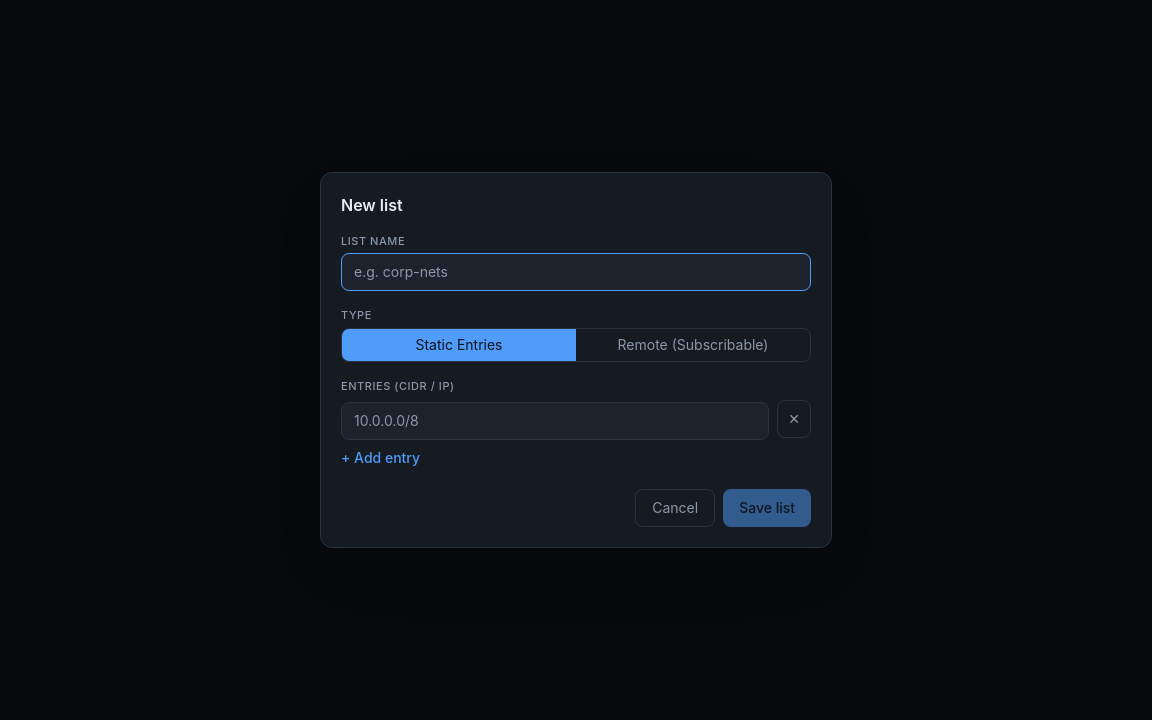
Scenario: ListEditor › validates static entries inline and blocks save until fixed
The image size is (1152, 720).
Type "corp" into the field with placeholder "e.g. corp-nets" at (576, 272), box x1=341 y1=253 x2=811 y2=291
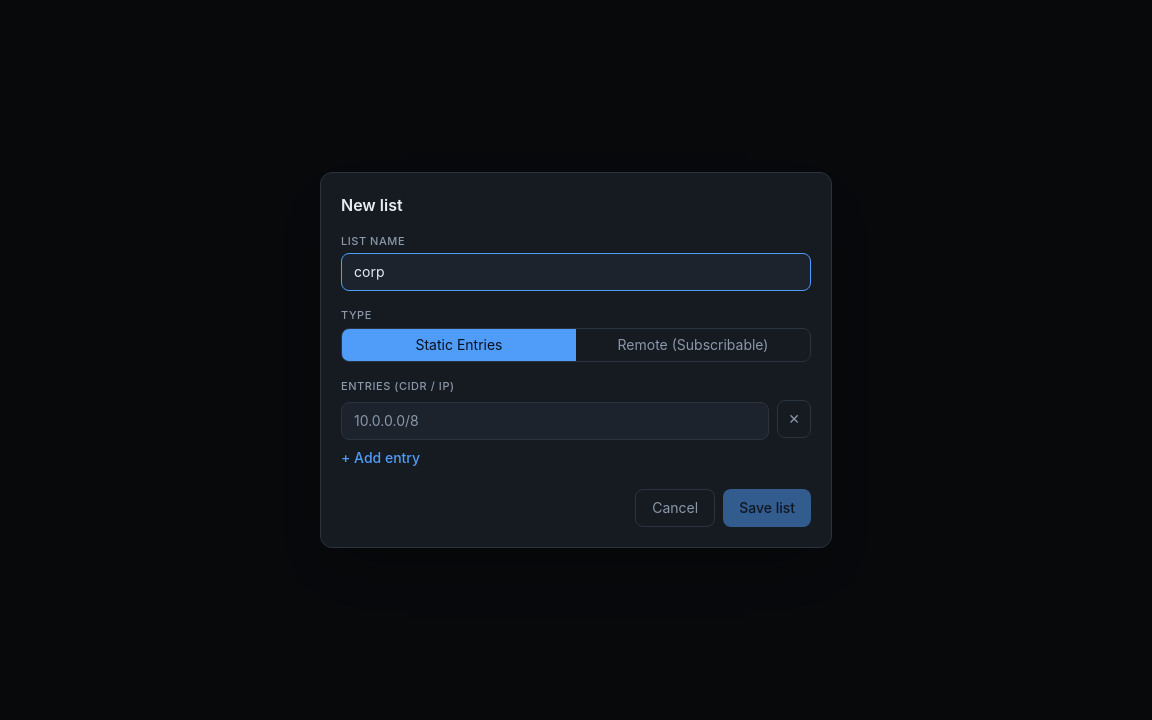
Type "999.999.999" into the field with placeholder "10.0.0.0/8" at (555, 421), box x1=341 y1=402 x2=769 y2=440
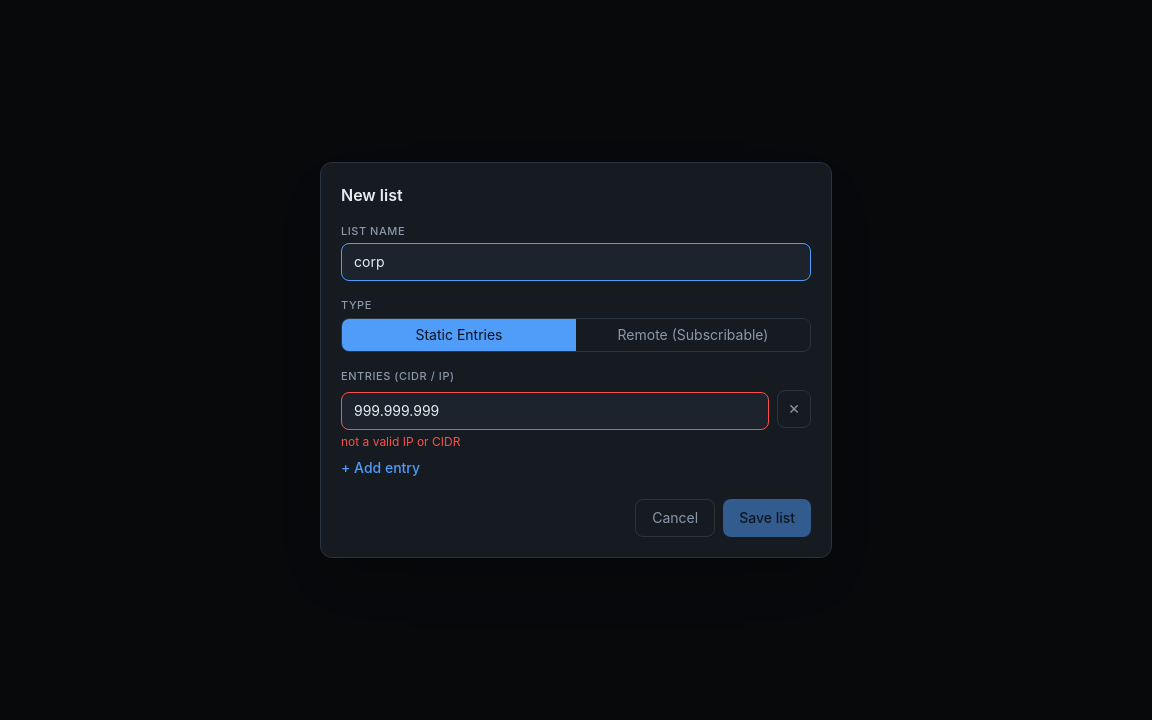
Check: the button "Save list" is disabled, box x1=723 y1=499 x2=811 y2=537
Check: the text "not a valid IP or CIDR" is shown, box x1=341 y1=434 x2=460 y2=449
Replace the text in the field with placeholder "10.0.0.0/8" below "Entries (CIDR / IP)" with "10.0.0.0/8" at (555, 411), box x1=341 y1=392 x2=769 y2=430
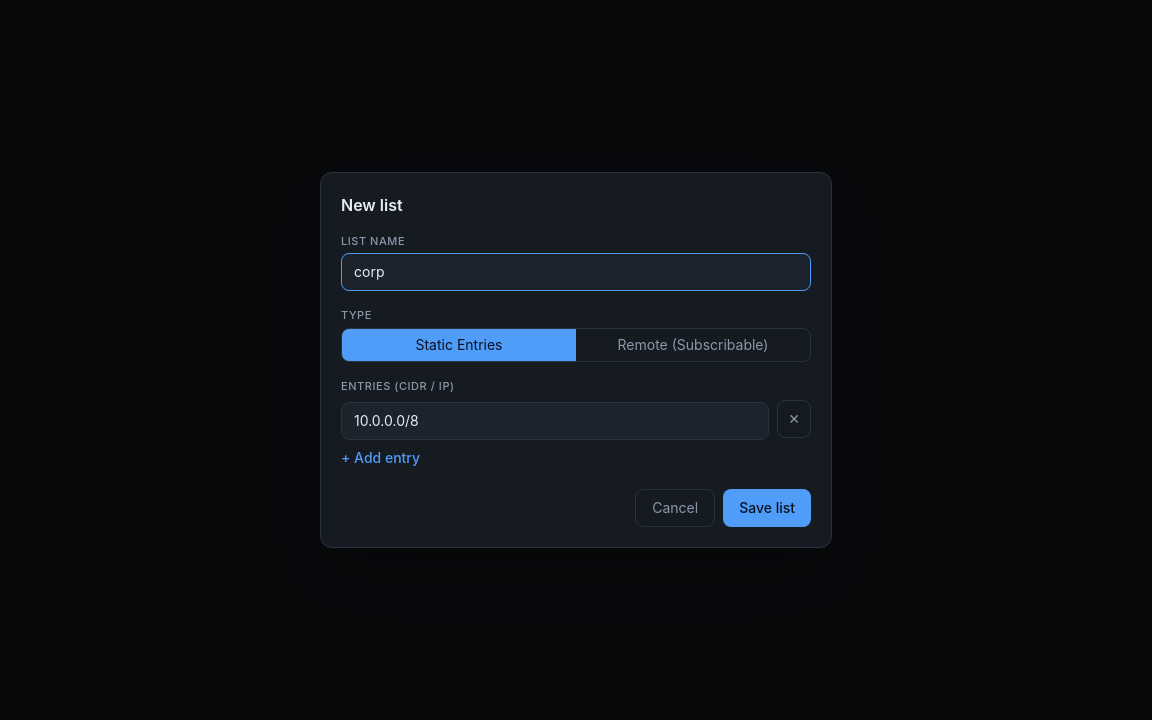
Check: the button "Save list" is enabled, box x1=723 y1=489 x2=811 y2=527
